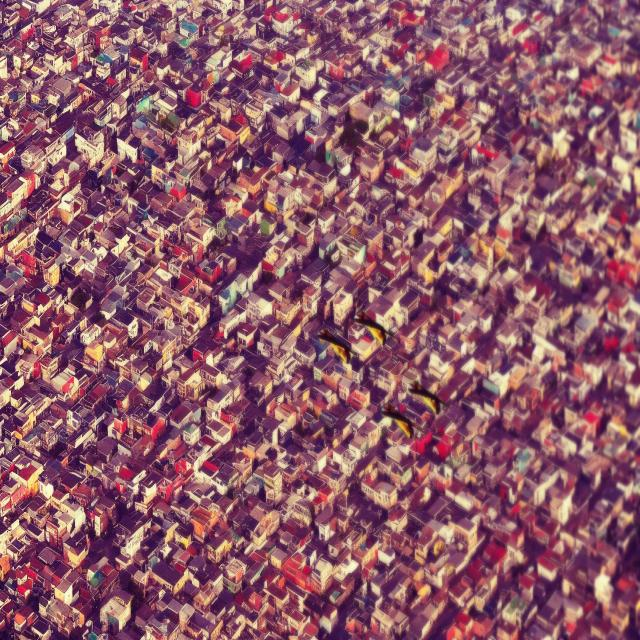airplane: (316, 327, 352, 366), (409, 380, 442, 418), (352, 312, 387, 347), (381, 406, 414, 438)
